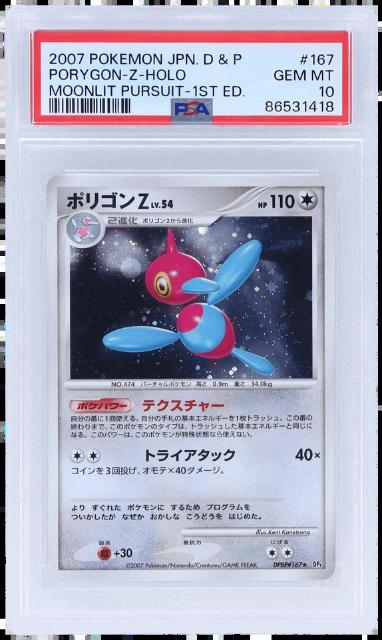Card: (42, 171, 340, 586)
Name: (63, 188, 152, 213)
